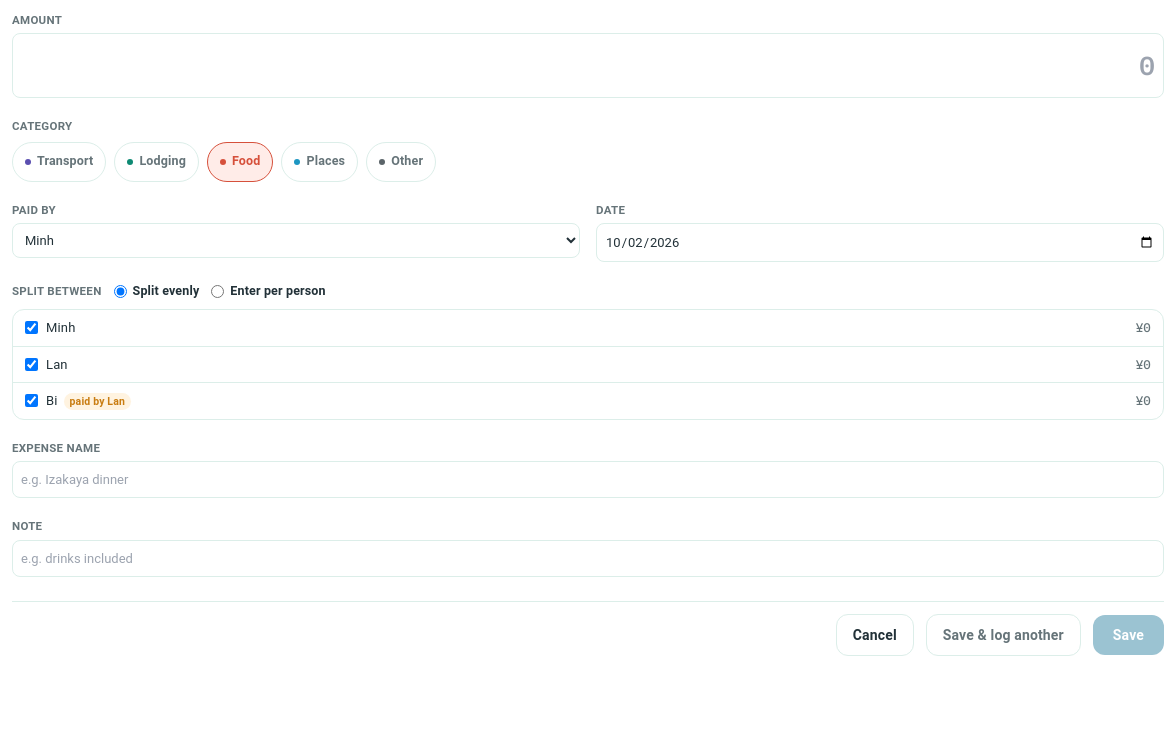
Test case: Ghi chi tiêu › nút "Dồn phần còn lại" đưa tổng về khớp
Step 1. Type "900" into the field named "Amount" → [588, 66], box [12,33,1164,98]
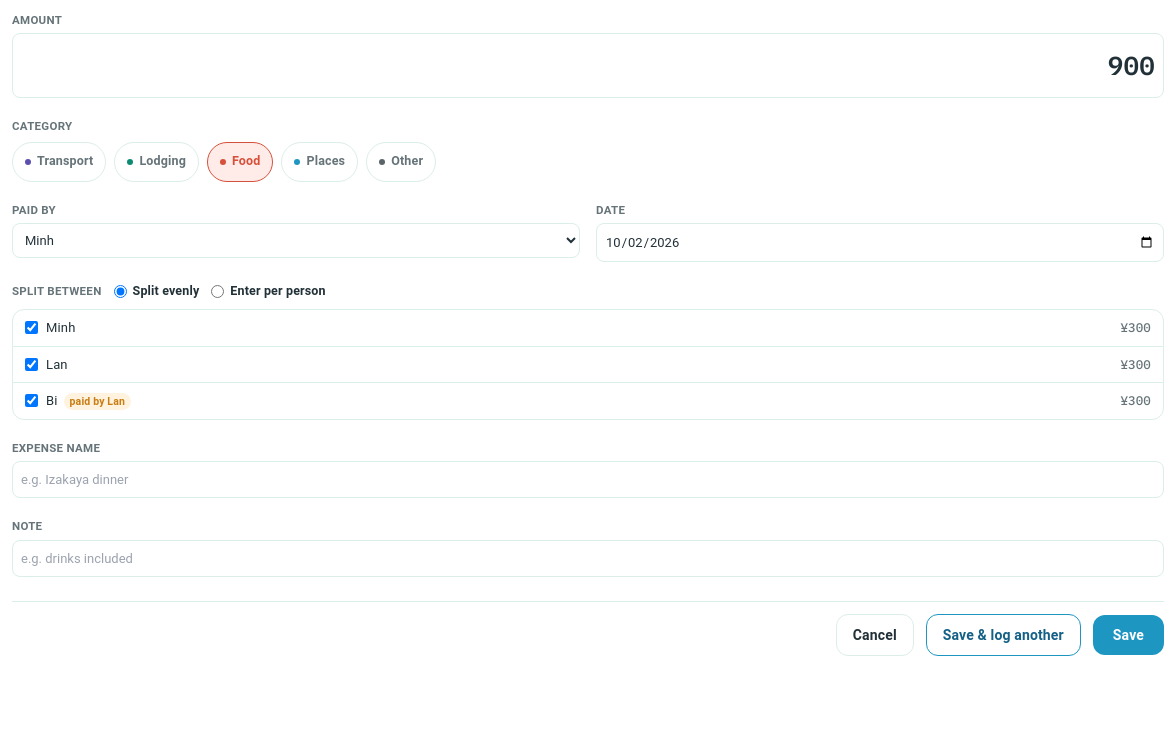
Step 2. Click the radio button labelled "Enter per person" → [218, 292], box [211,285,224,298]
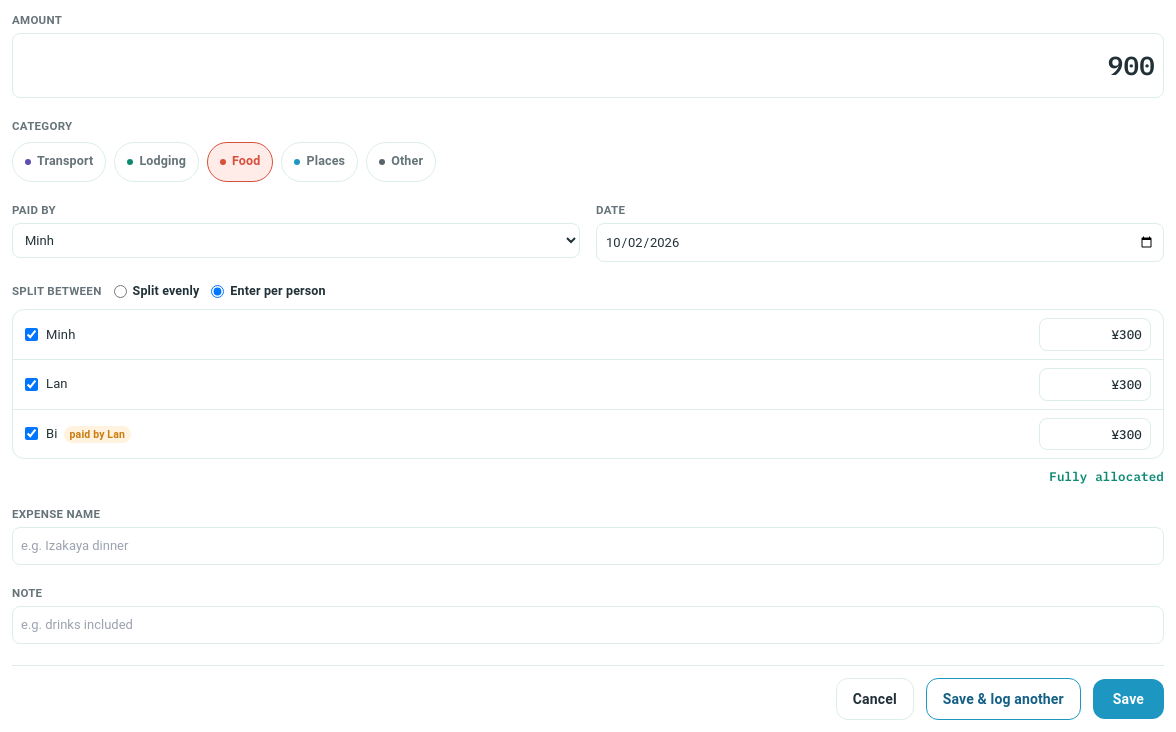
Step 3. Replace the text in the field named "Share of Minh" with "100" → [1095, 334], box [1039,318,1151,351]
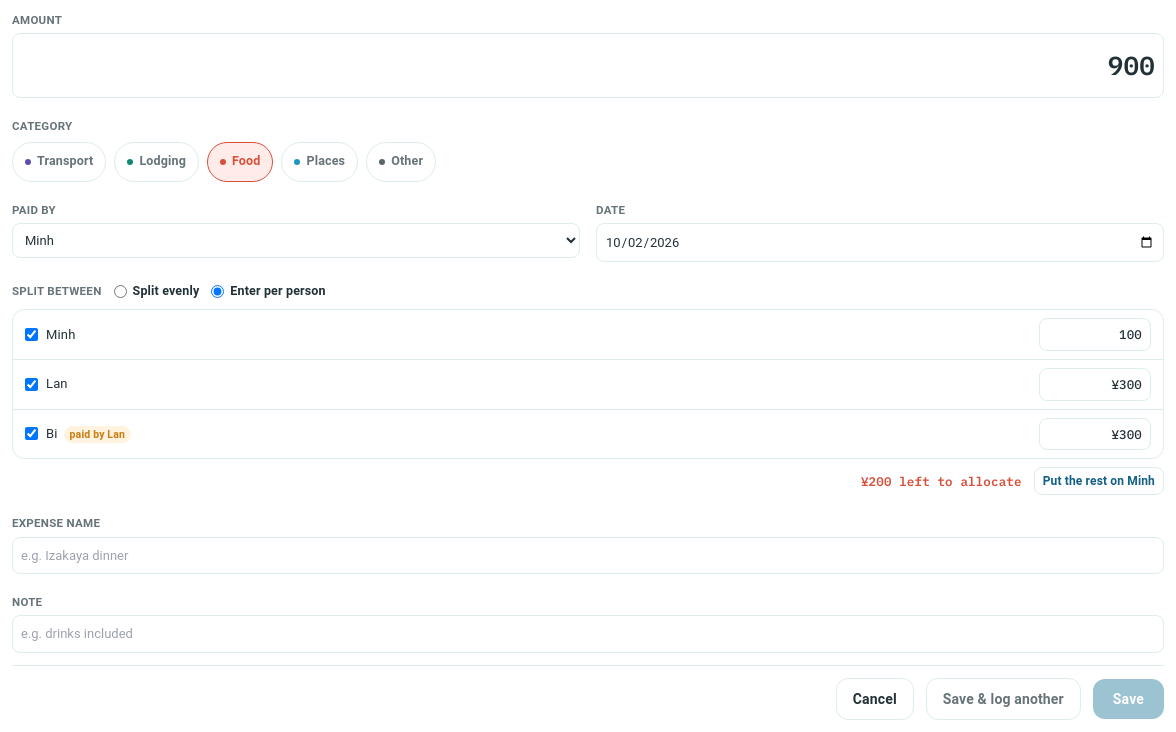
Step 4. Click the button "Put the rest on Minh" → [1099, 481], box [1034,467,1164,495]
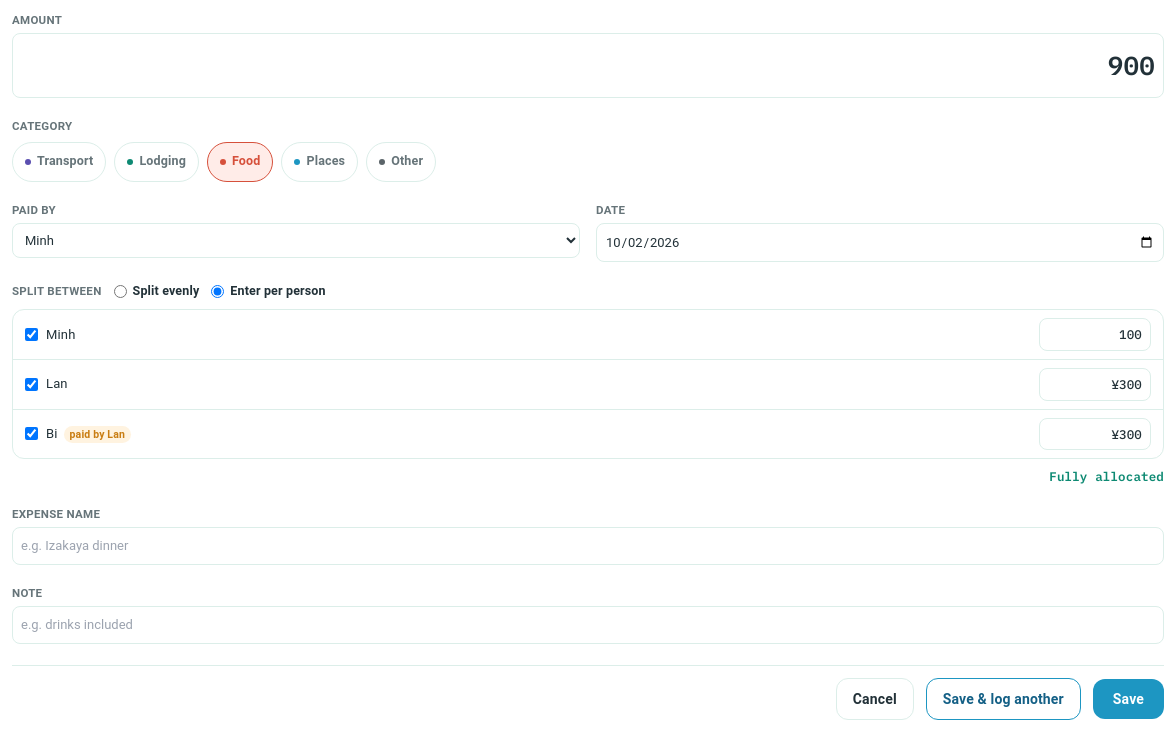
Check: the text "Fully allocated" is shown, box [1049,467,1164,486]
Check: the button "Save" is enabled, box [1093,679,1164,719]
